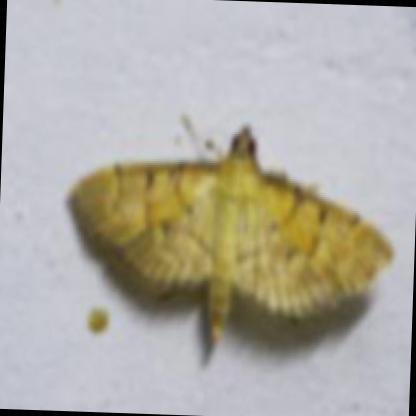Leaf Webber: (66, 120, 393, 345)
